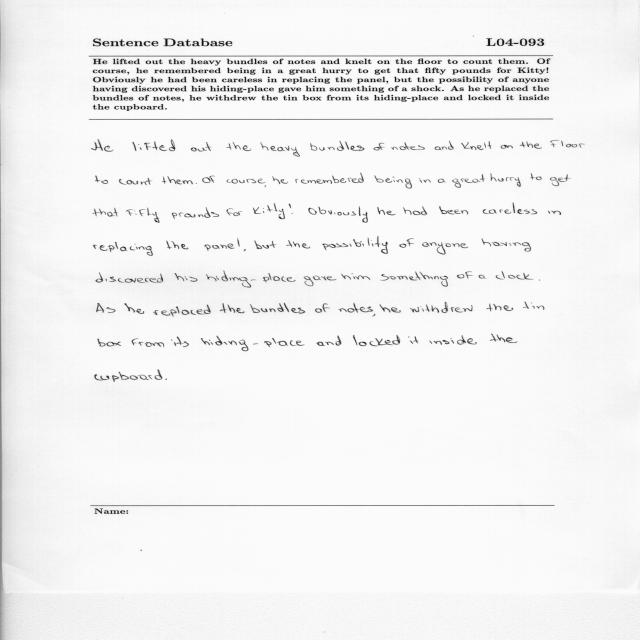word: (201, 336, 305, 351), (206, 271, 296, 288), (322, 236, 388, 254), (308, 206, 368, 223), (380, 272, 448, 287), (93, 242, 153, 256), (95, 370, 162, 382), (295, 173, 364, 184), (96, 272, 163, 283), (153, 305, 211, 317), (410, 302, 473, 313), (482, 239, 531, 252), (260, 142, 300, 157), (422, 242, 468, 255), (483, 203, 537, 214), (172, 207, 219, 219), (250, 303, 305, 313), (311, 141, 365, 151), (353, 335, 400, 346), (253, 203, 285, 219), (126, 208, 160, 223), (374, 176, 412, 189), (339, 303, 376, 316), (429, 335, 477, 345), (133, 140, 176, 151), (453, 174, 486, 188), (490, 173, 521, 187), (304, 276, 336, 286), (227, 179, 266, 187), (496, 271, 533, 279), (550, 140, 585, 148), (461, 141, 492, 150), (317, 335, 342, 346), (391, 142, 425, 150), (91, 140, 113, 152), (132, 339, 165, 347), (439, 206, 468, 215), (550, 174, 571, 186), (220, 304, 245, 314), (162, 176, 193, 184), (490, 334, 517, 343), (119, 178, 152, 185), (227, 142, 252, 151), (93, 208, 118, 217), (125, 303, 145, 314), (403, 207, 427, 216), (487, 304, 514, 312), (205, 244, 235, 251), (175, 273, 198, 282), (341, 273, 370, 280), (286, 240, 310, 248), (97, 303, 116, 313), (98, 339, 121, 347), (191, 142, 211, 151), (434, 141, 454, 150), (171, 337, 189, 347), (520, 141, 542, 149), (166, 241, 188, 249), (255, 241, 277, 249), (523, 302, 545, 310), (377, 207, 396, 215), (399, 238, 414, 248), (315, 304, 330, 313), (227, 208, 242, 216), (237, 238, 246, 251), (457, 272, 473, 279), (96, 175, 108, 184), (202, 176, 215, 183), (374, 143, 385, 151), (380, 305, 391, 313), (530, 173, 542, 180), (409, 336, 419, 344), (272, 176, 280, 184), (419, 178, 431, 183), (548, 211, 561, 215), (391, 308, 401, 313), (501, 145, 513, 149), (289, 204, 293, 214), (281, 179, 288, 184), (438, 179, 446, 183), (479, 275, 485, 279), (165, 378, 167, 380), (196, 183, 197, 184), (539, 280, 540, 281)
